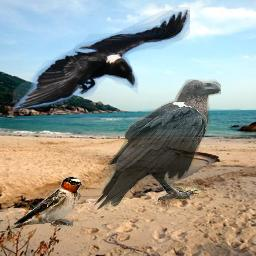Crow: (13, 7, 190, 110), (92, 79, 221, 211)
Swallow: (12, 176, 83, 229)
